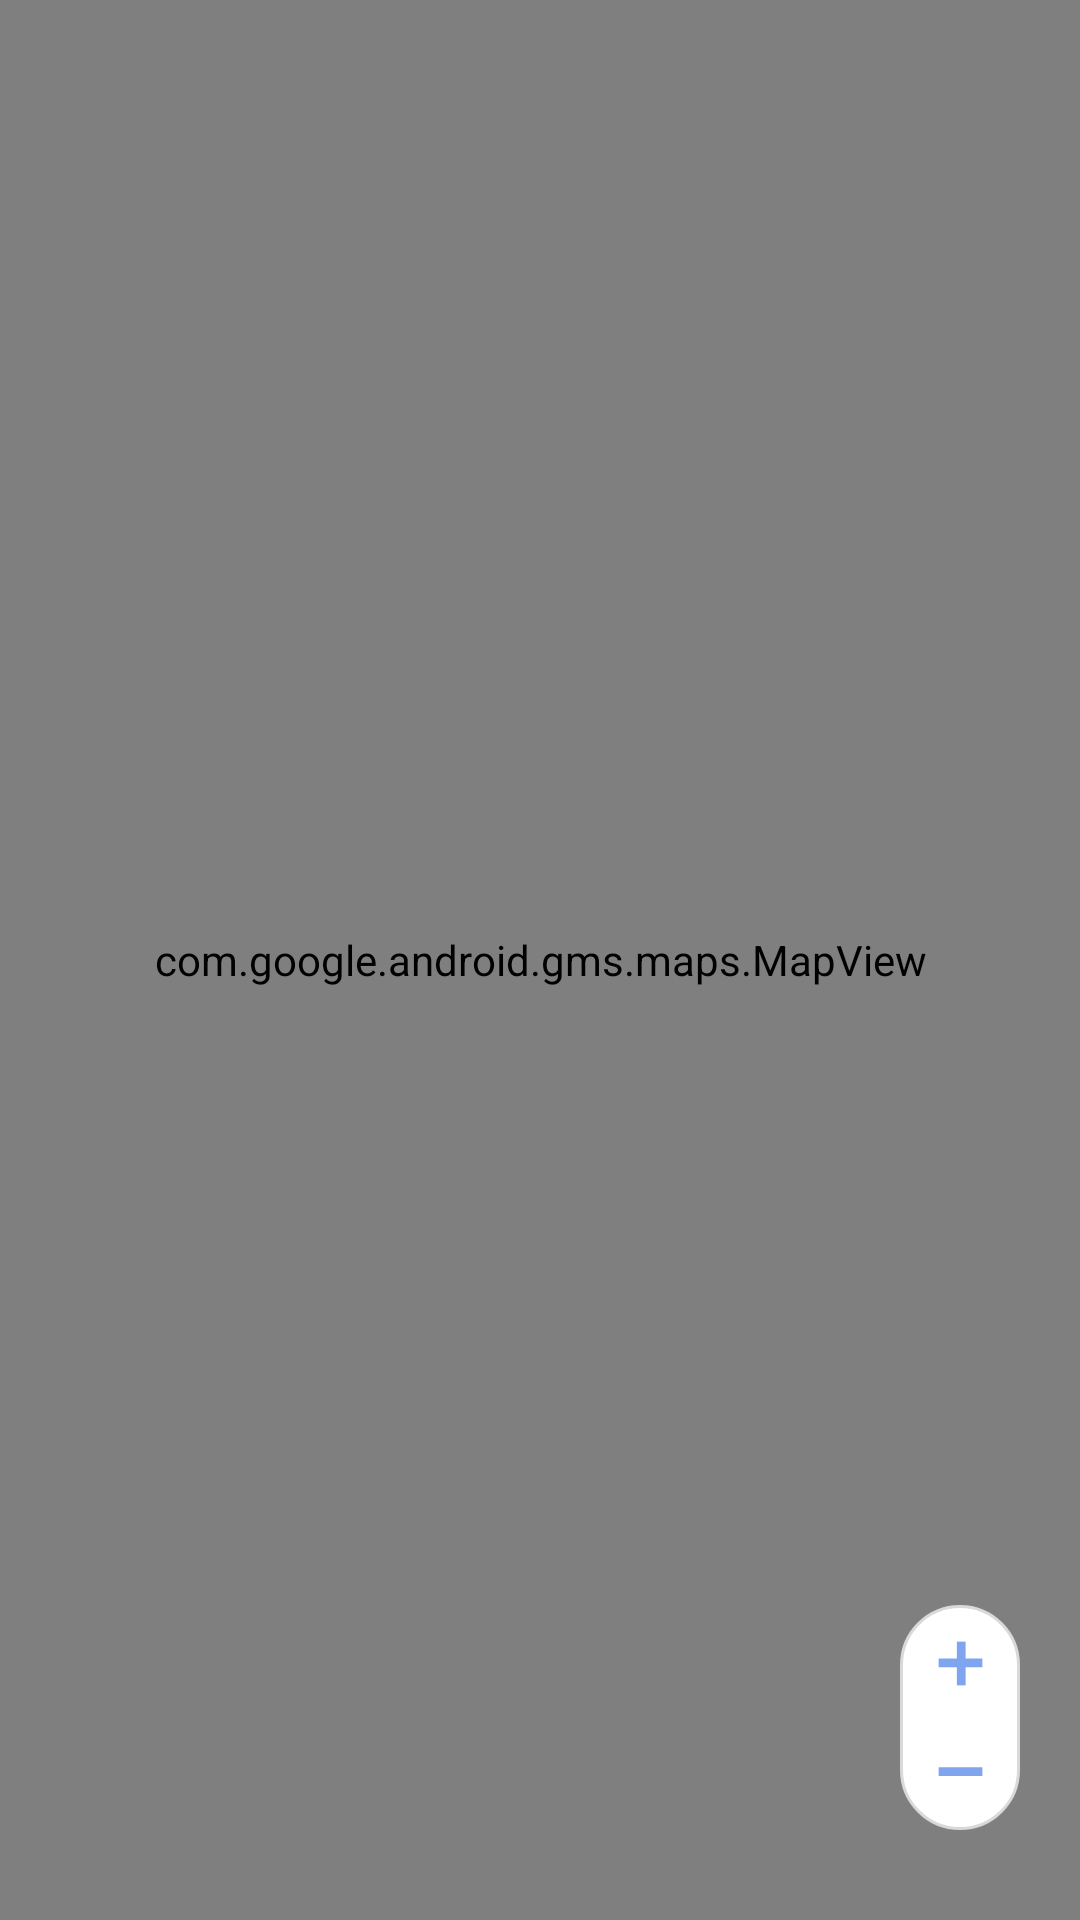

Icon click points for this 1080x1920 phone screenshot, format [x,y]:
map zoom minus: [960,1771]
map zoom plus: [960,1663]
